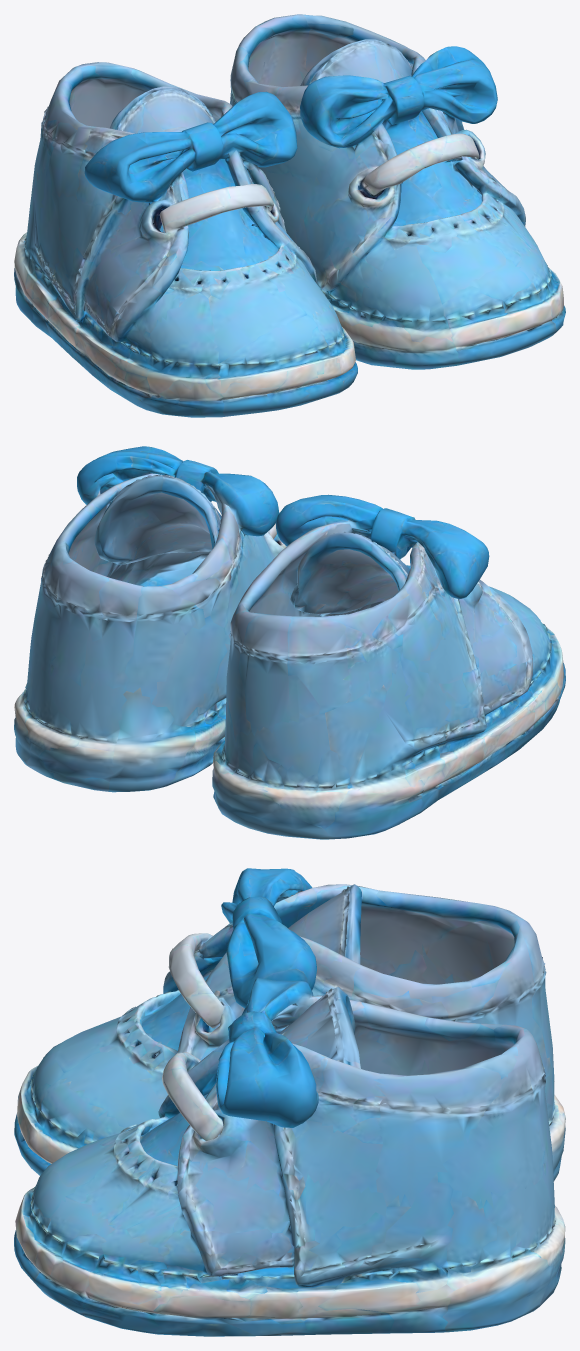
The picture shows the model from 3 angles, top to bottom: view 1: azimuth 30°, elevation 25°; view 2: azimuth 150°, elevation 25°; view 3: azimuth 270°, elevation 25°; orthographic projection. The views are drawn at different scales.
Bounding box in the file's own units: 1.9 × 1.05 × 1.84.
Materials: 1 (1 with a texture image).
